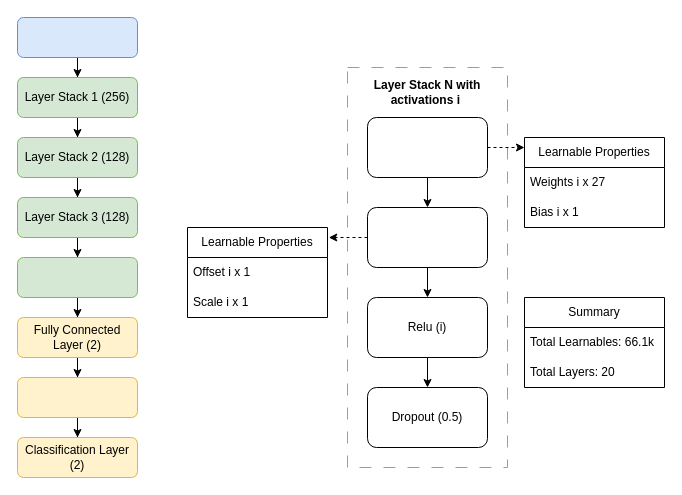
This 682x495 diagram has some shape labels left out. Here are the shapes that lost their labels. From the top down, the box of each, then its label:
(16, 16, 138, 58): Feature Input (27)
(366, 116, 488, 178): Fully Connected Layer (i)
(366, 206, 488, 268): Batch Normalization (i)
(16, 256, 138, 298): Layer Stack 4 (64)
(16, 376, 138, 418): Softmax Layer (2)
